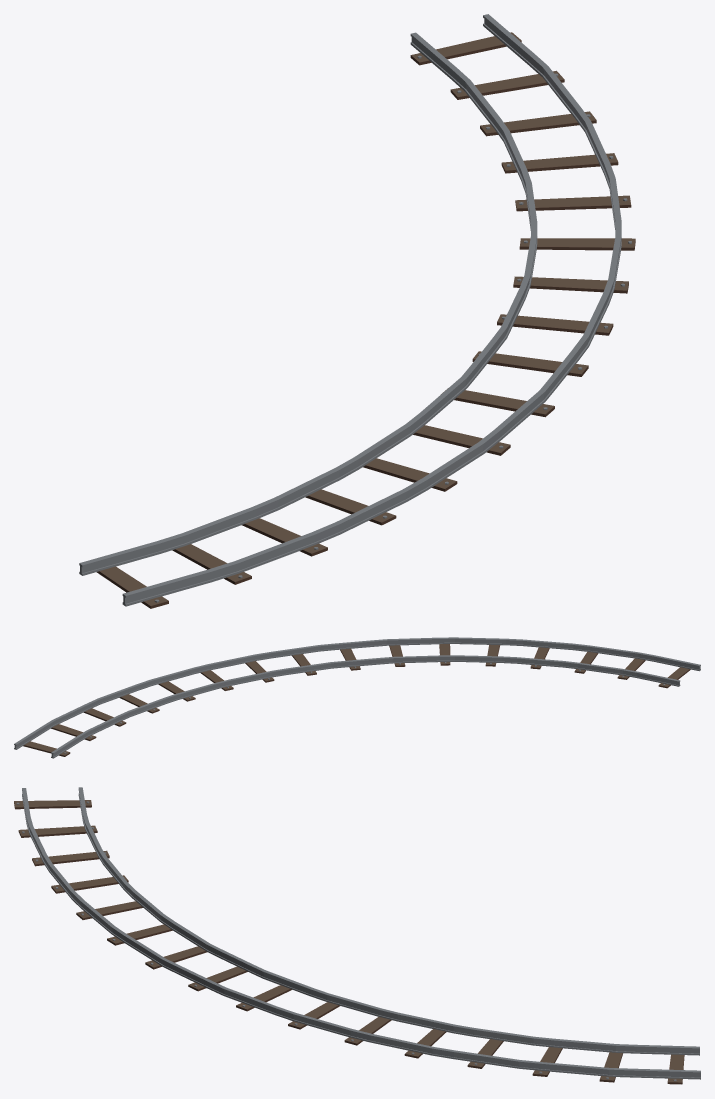
The model's file is Track_TurnLeft.fbx.
3 renders of one model, top to bottom at view 1: azimuth 30°, elevation 25°; view 2: azimuth 150°, elevation 25°; view 3: azimuth 270°, elevation 25°, orthographic. The views are drawn at different scales.
Visible parts, largest first — view 1: TurnLeft; view 2: TurnLeft; view 3: TurnLeft.
Part boxes in pixels (x1,y1,x2,y2): TurnLeft: (79,14,635,608); TurnLeft: (14,637,700,758); TurnLeft: (14,787,700,1084).
Bounding box in the file's own units: 972 × 14.03 × 980.
